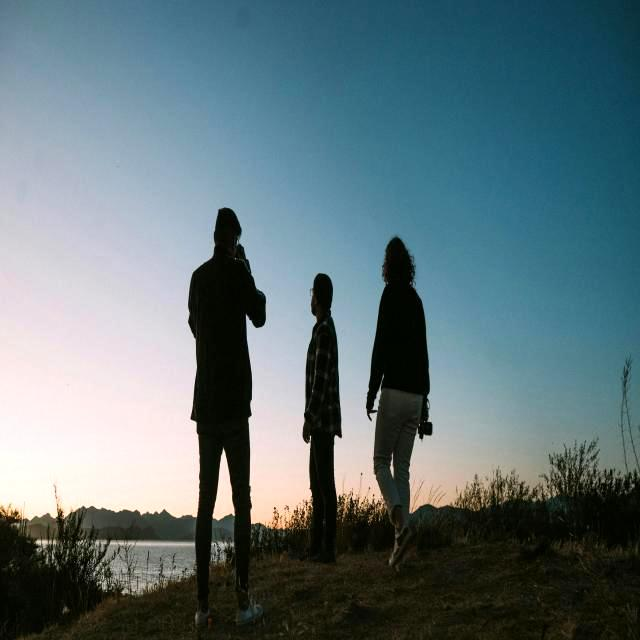no_head_wear: (213, 207, 252, 279), (382, 235, 415, 287), (311, 270, 337, 314)
person: (188, 208, 266, 638), (366, 236, 432, 566), (301, 273, 342, 563)
